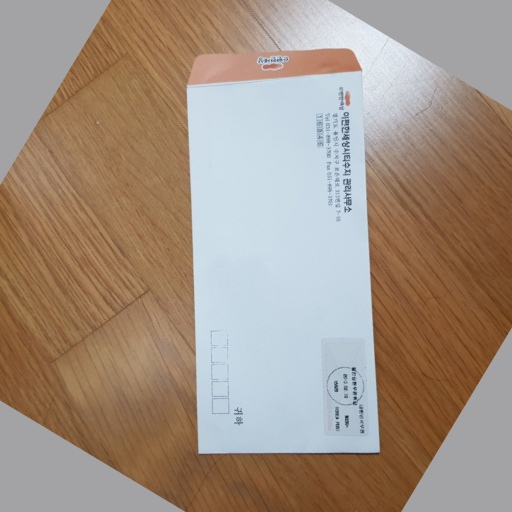Paper_2: (178, 39, 404, 468)
